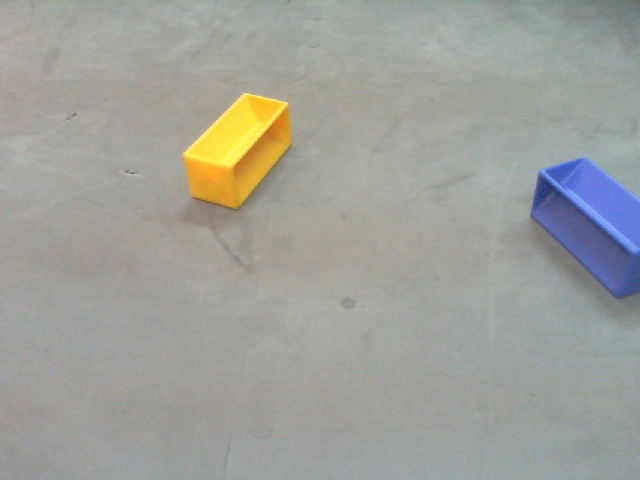BlueSample: (527, 153, 640, 312)
YellowSample: (179, 89, 298, 218)
